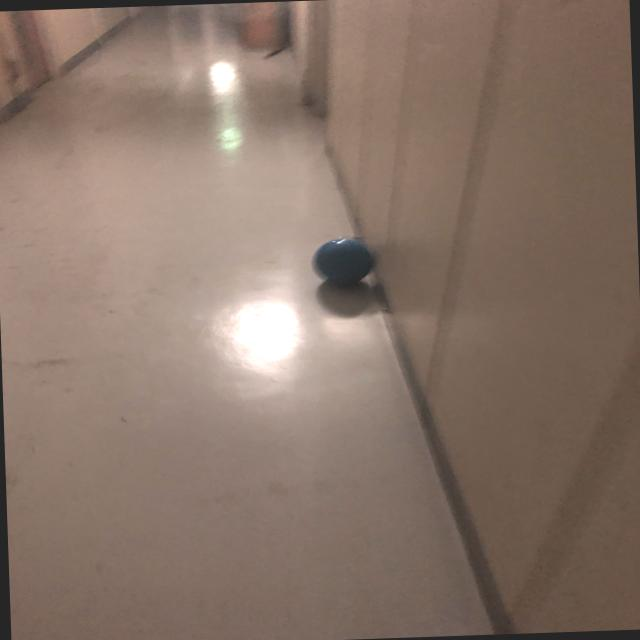blue_ball: (313, 233, 384, 288)
